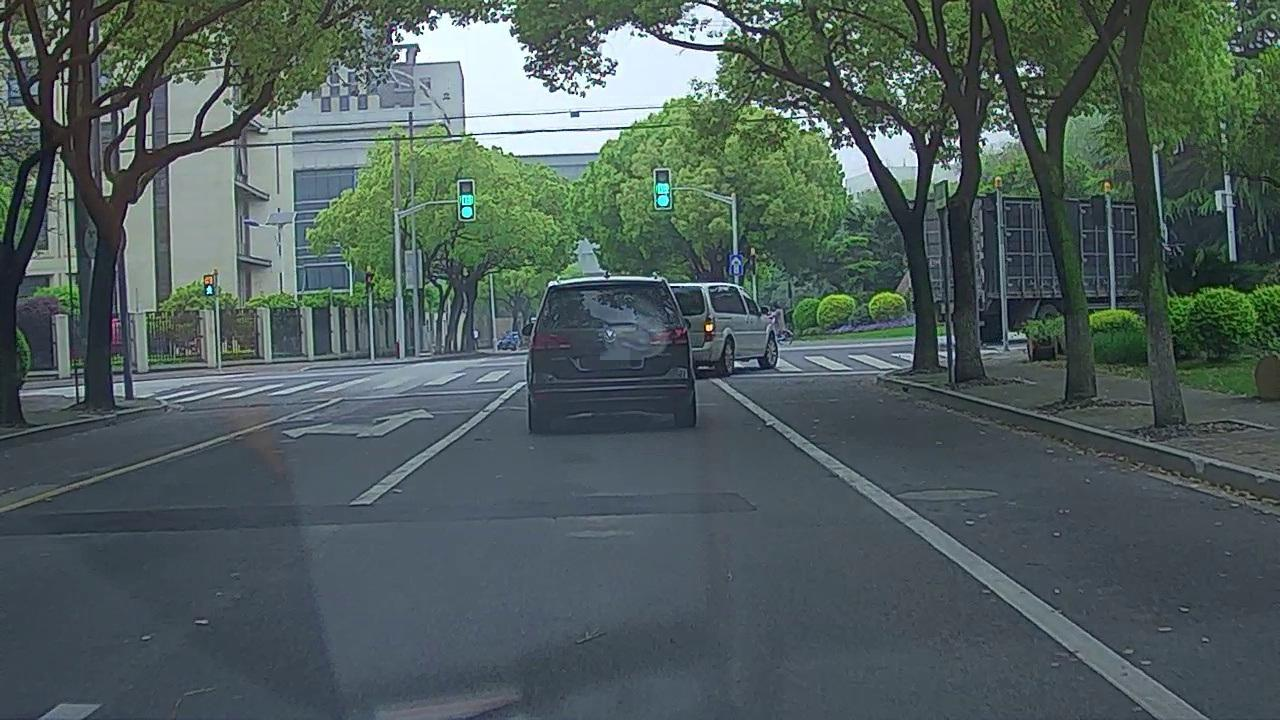traffic_light: (458, 181, 474, 220), (654, 172, 670, 208)
